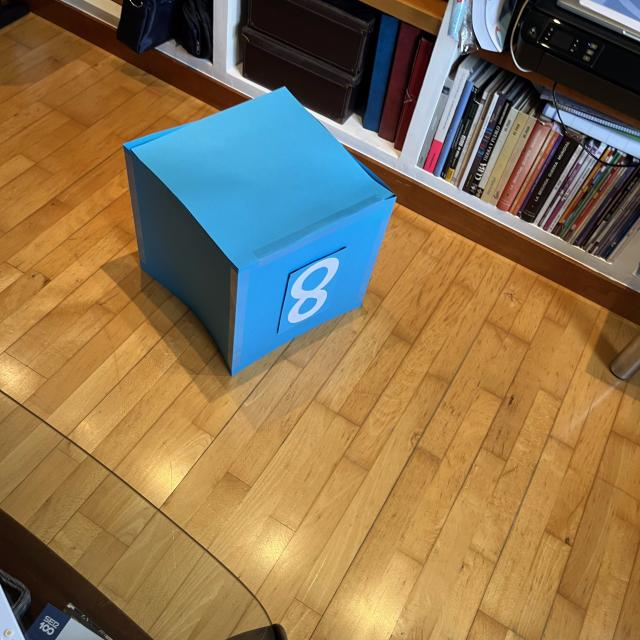box: (120, 85, 400, 376)
